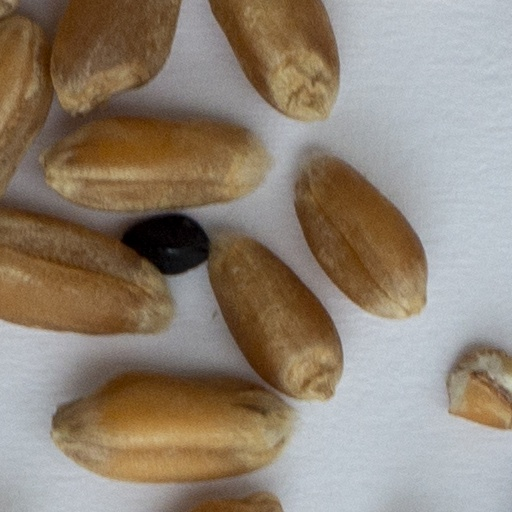Wheat-grain-damaged-poly: (435, 344, 511, 432)
